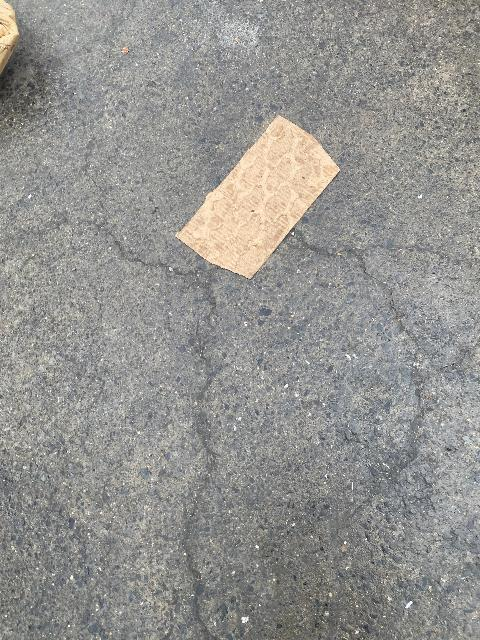Kagit: (171, 98, 354, 284)
